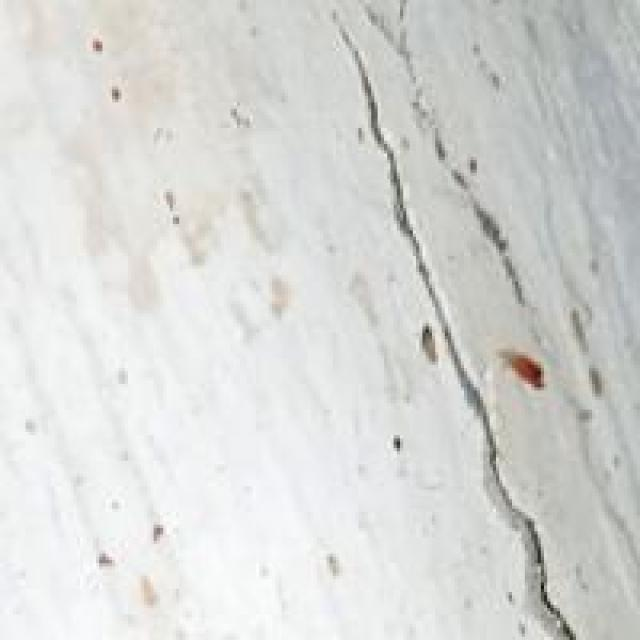Crack: (282, 0, 637, 637)
